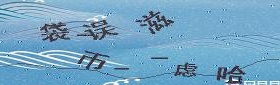chinese: (136, 8, 174, 34), (76, 48, 108, 73), (81, 17, 112, 39), (40, 20, 69, 43), (172, 58, 202, 80), (215, 65, 246, 85)
